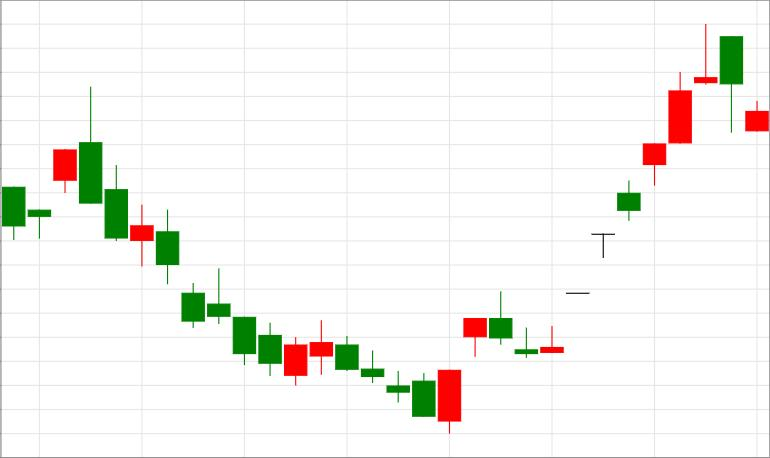bullish_engulfing_rise: (156, 209, 461, 434)
